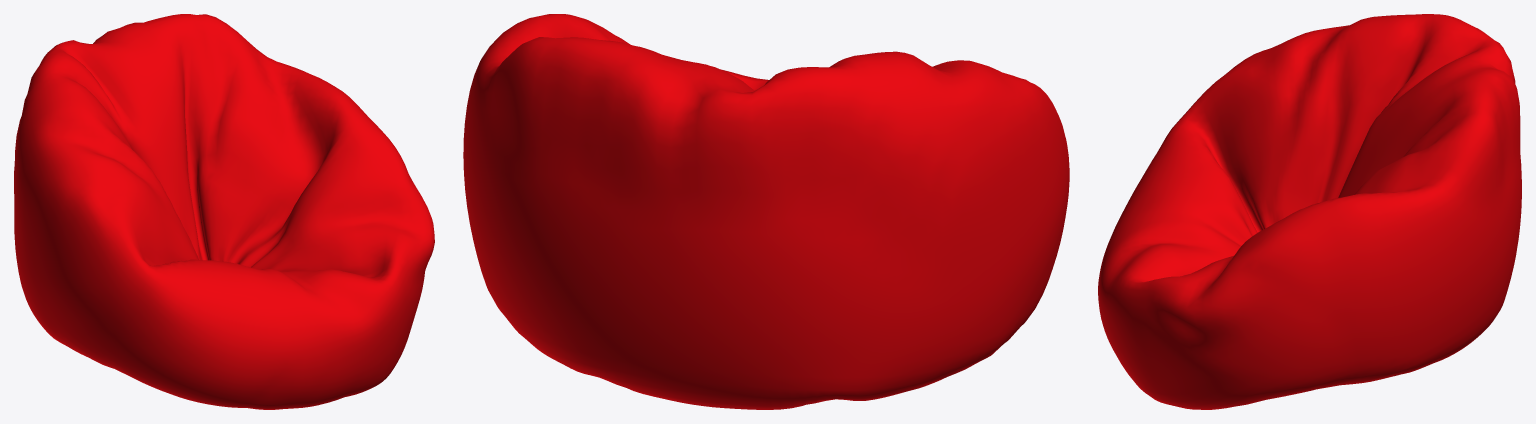
The model's file is beanbag.dae.
3 renders of one model, left to right at view 1: azimuth 30°, elevation 25°; view 2: azimuth 150°, elevation 25°; view 3: azimuth 270°, elevation 25°, orthographic. The views are drawn at different scales.
Parts seen in each view (by area): view 1: Sphere; view 2: Sphere; view 3: Sphere.
Part boxes in pixels (left/top/right/bottom): Sphere: left=14, top=14, right=434, bottom=409; Sphere: left=463, top=14, right=1069, bottom=409; Sphere: left=1098, top=14, right=1521, bottom=409.
Size of what is drawn, in the model's own units: 2.03 by 1.99 by 1.48.
